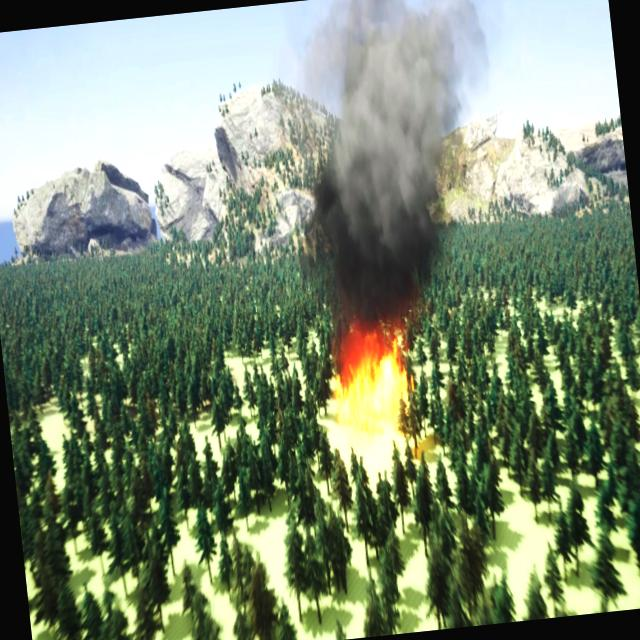fire: (321, 322, 418, 435)
smoke: (293, 0, 535, 320)
